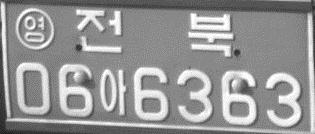0: (15, 61, 52, 116)
3: (264, 71, 302, 128), (175, 68, 213, 123)
6: (220, 69, 257, 126), (132, 66, 169, 121), (57, 63, 94, 117)
아: (98, 68, 127, 117)
영: (14, 7, 55, 50)
전북_D: (74, 8, 233, 58)
